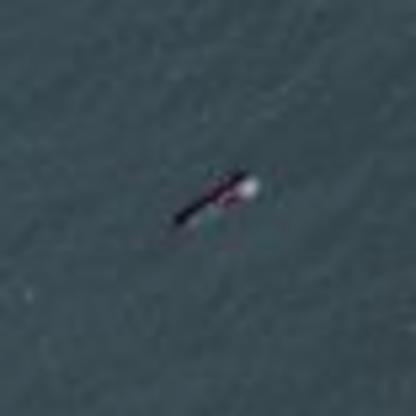ship: (168, 165, 263, 232)
